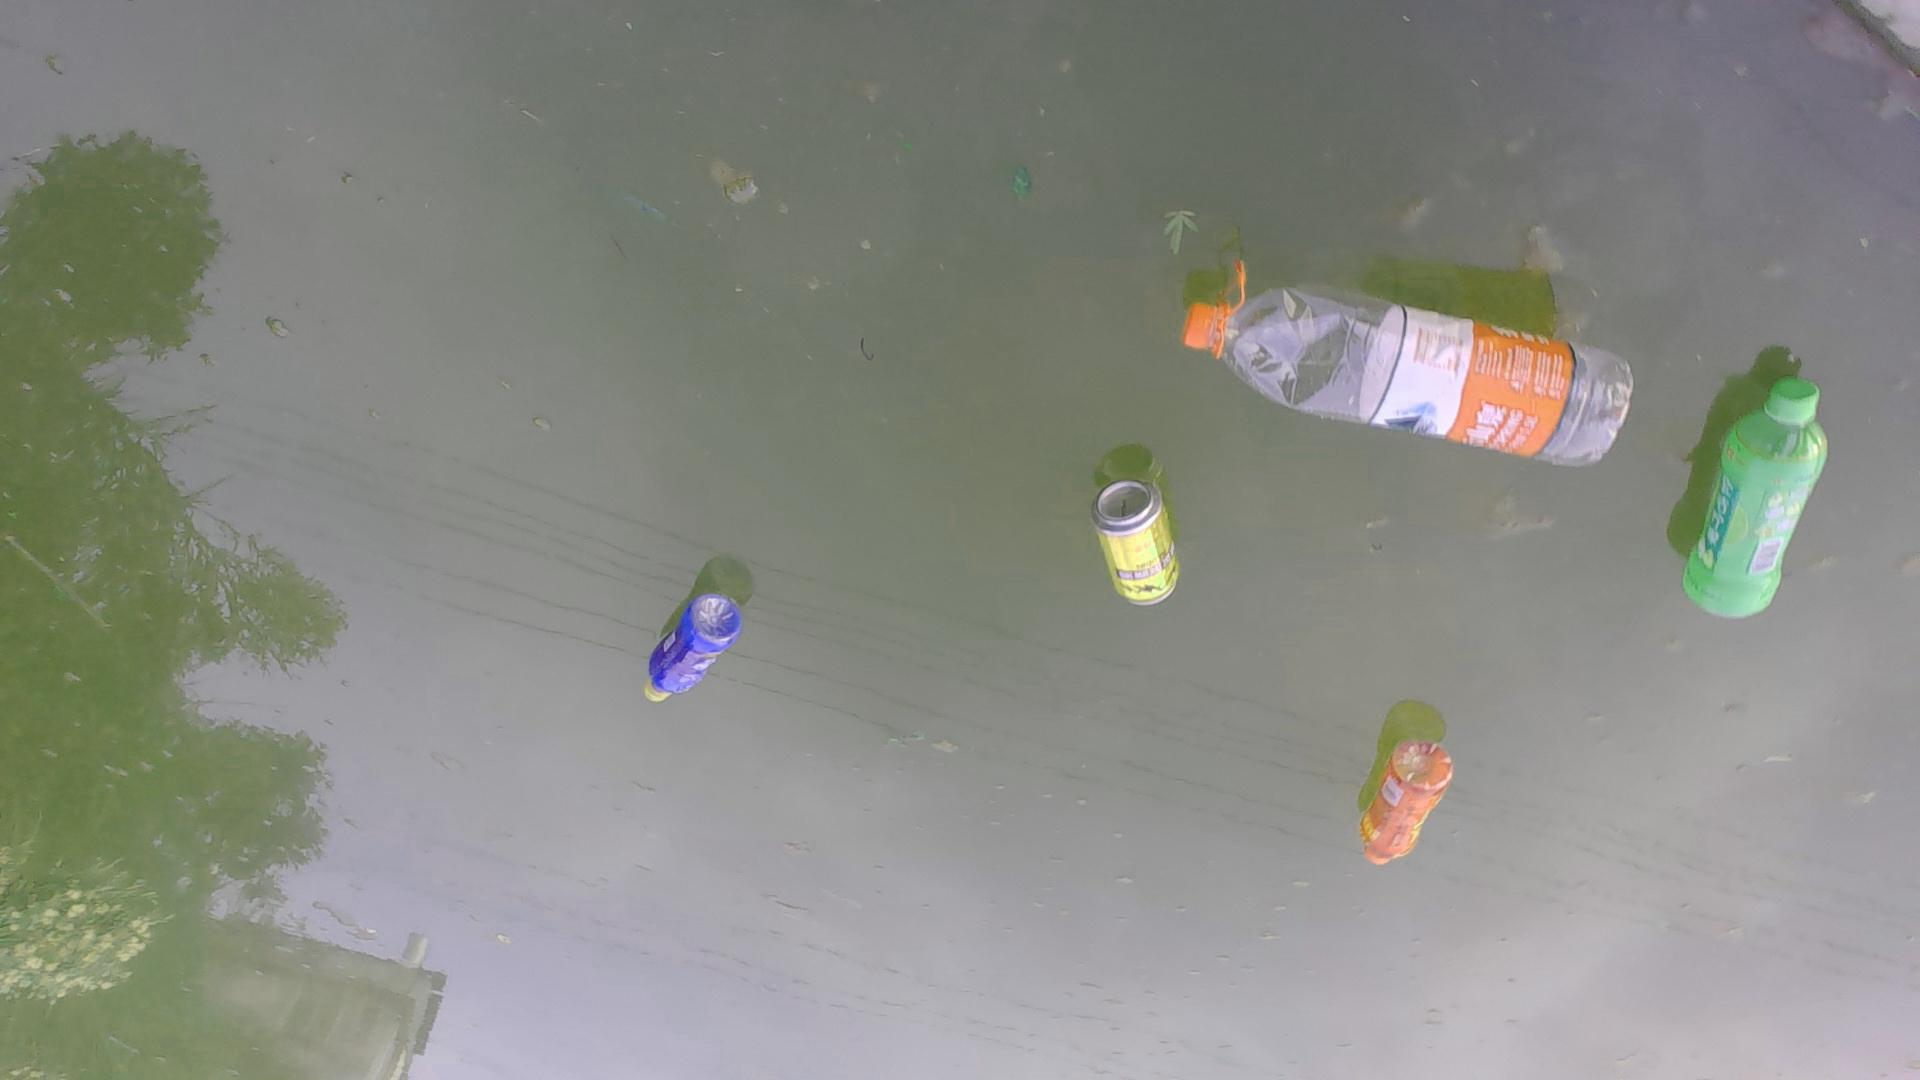Plastic: (1174, 260, 1640, 472), (1675, 365, 1844, 626), (1354, 725, 1455, 878), (640, 588, 752, 712), (1088, 481, 1185, 615)
